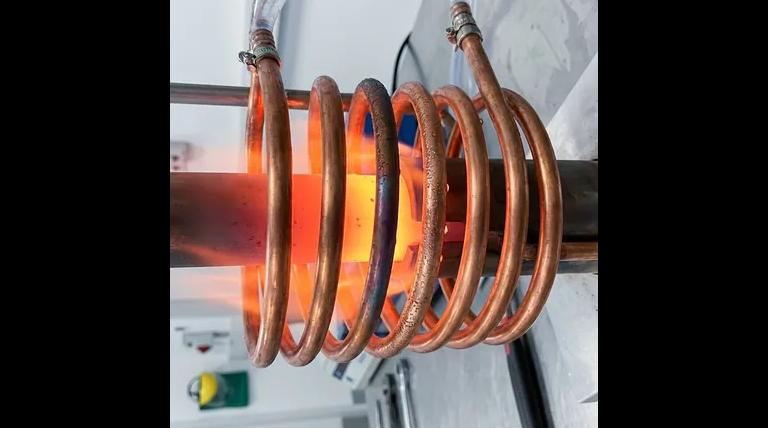controlled_fire: (201, 105, 456, 344)
